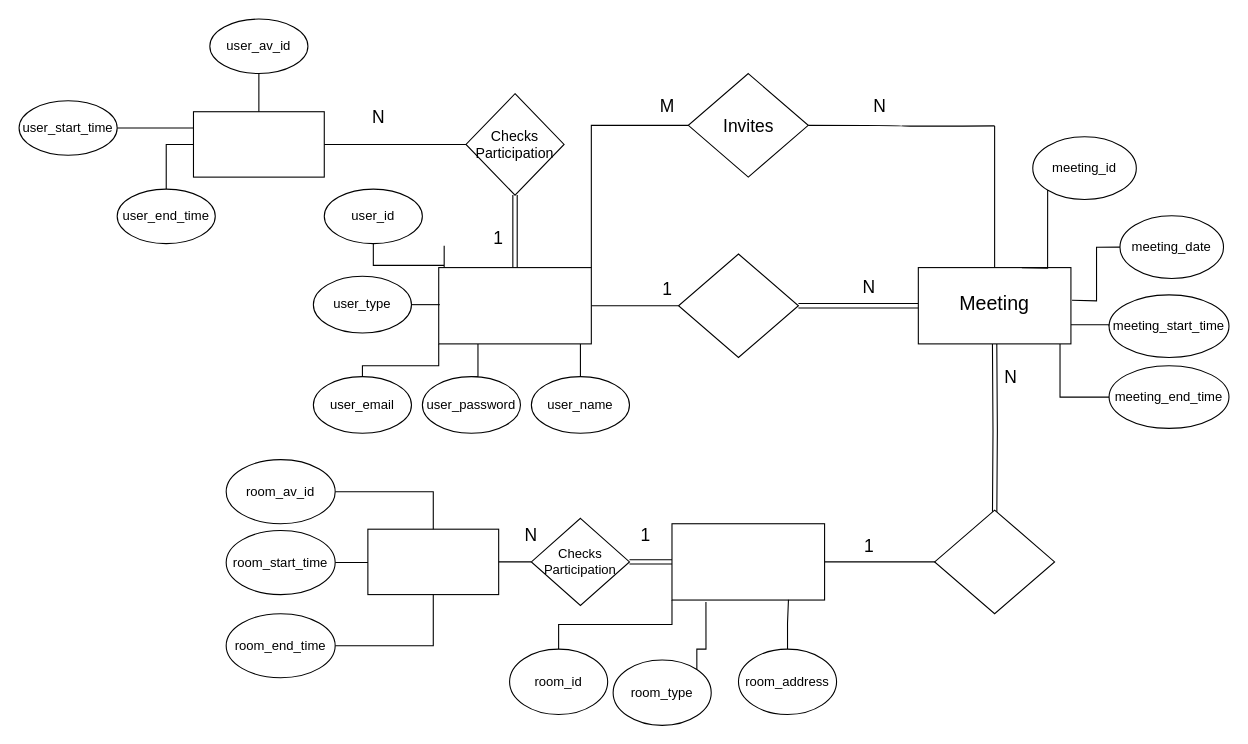
Image size: 1248x744. Some labels were removed from this diagram. Here are the shapes that lost their labels. From the top down, the centre of each, then its label:
At (258,144): "User Availability".
At (514,305): "User".
At (737,305): "Creates".
At (433,561): "Room Availability".
At (748,561): "Room".
At (994,561): "Scheduled".
